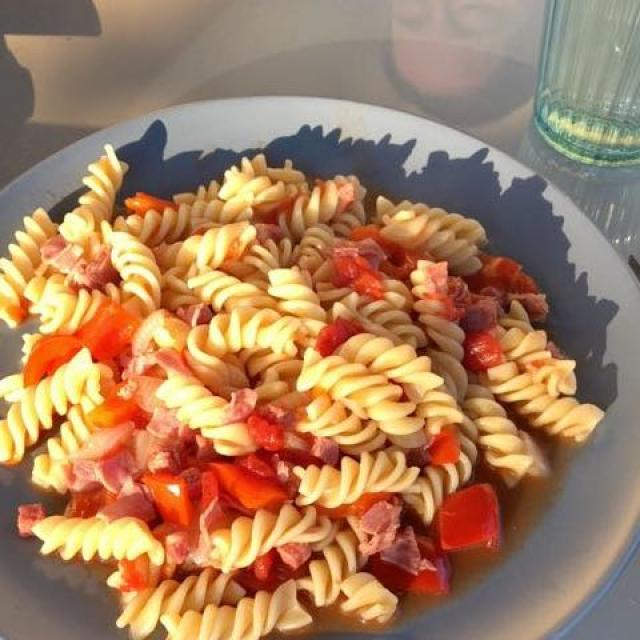bell-pepper-red-raw: (137, 451, 287, 537)
ham: (62, 368, 185, 520)
pasta: (6, 159, 586, 635)
tomato-raw: (326, 252, 388, 310)
